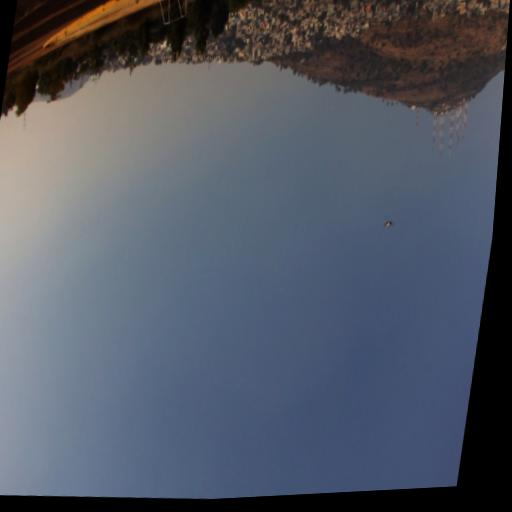drones: (382, 218, 396, 229)
